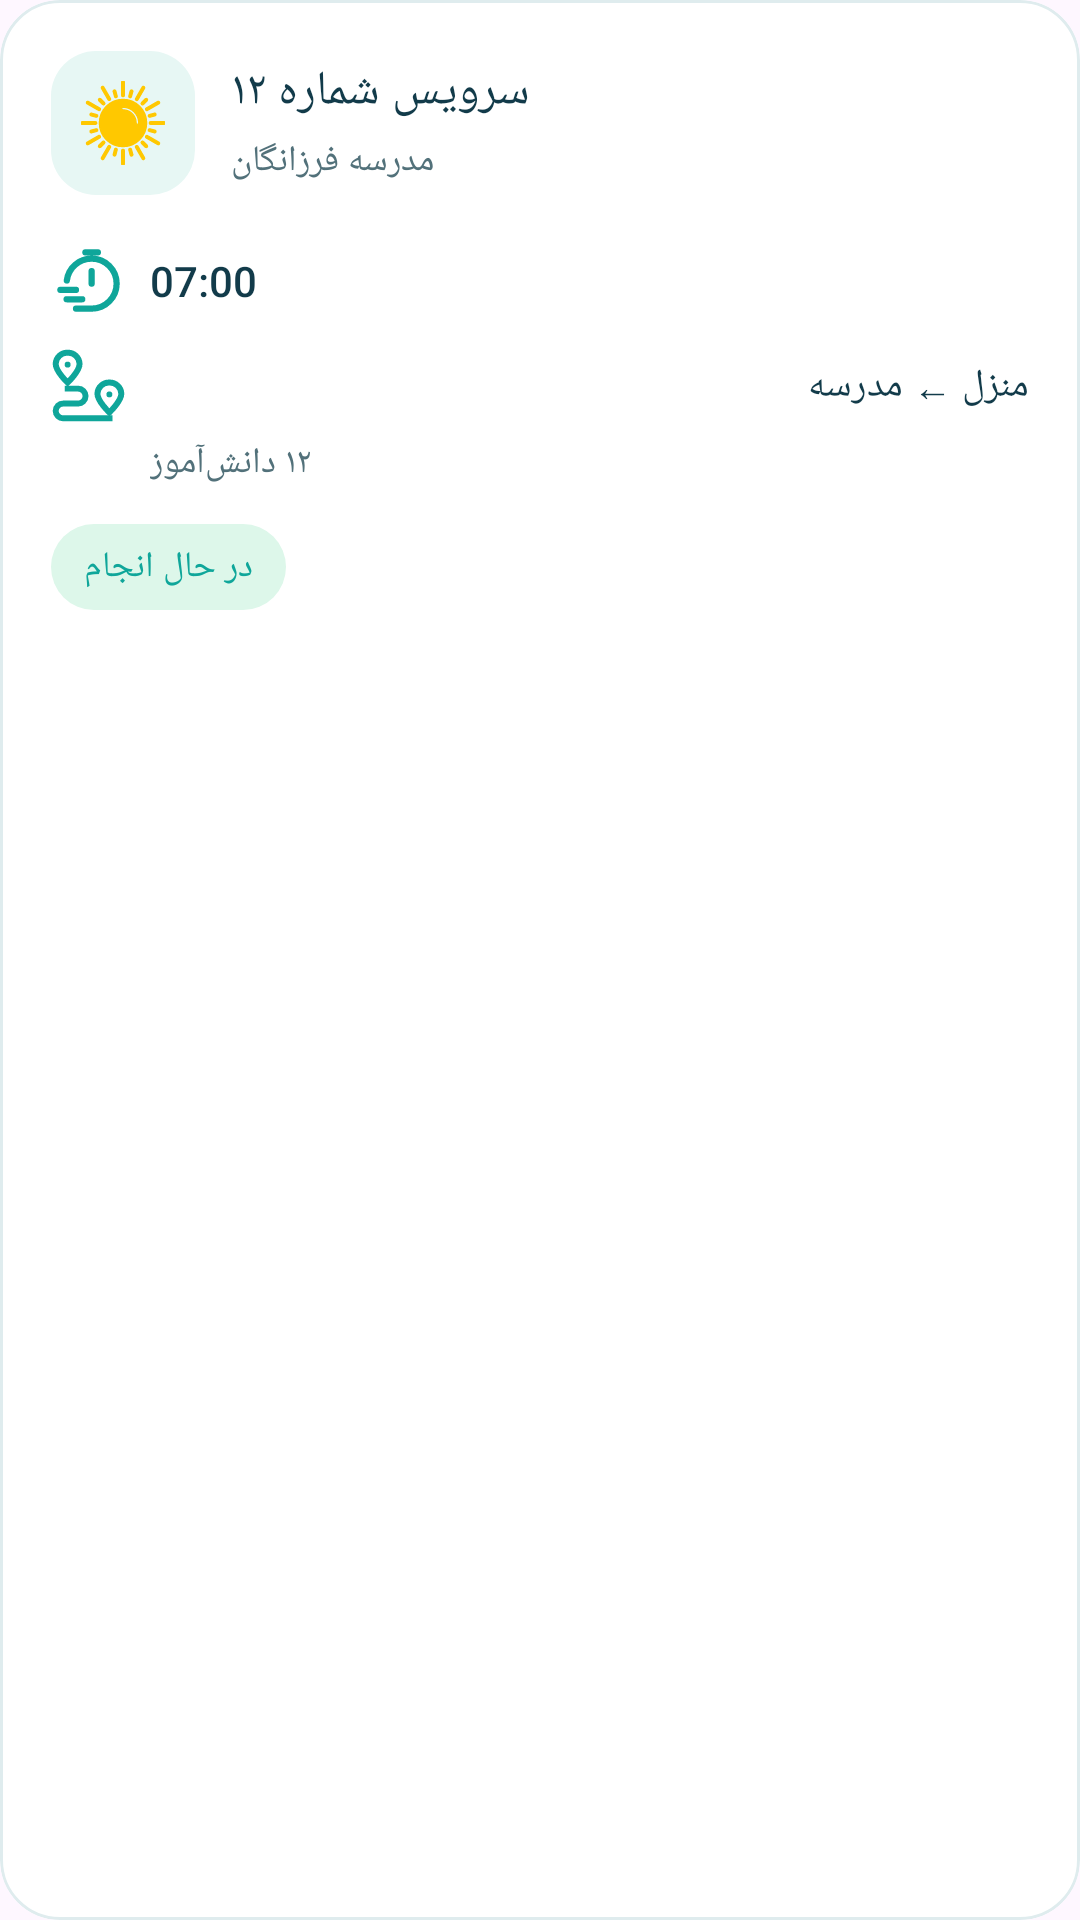

Where icons sit on this 1080 x 1920 app screen, as (x1, y1, x2, y2):
ساعت: (57, 249, 120, 312)
مسیر: (52, 349, 125, 422)
